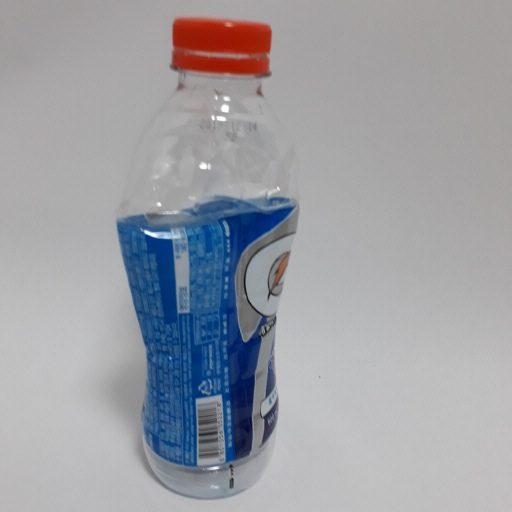Plastic_0: (116, 16, 301, 503)
